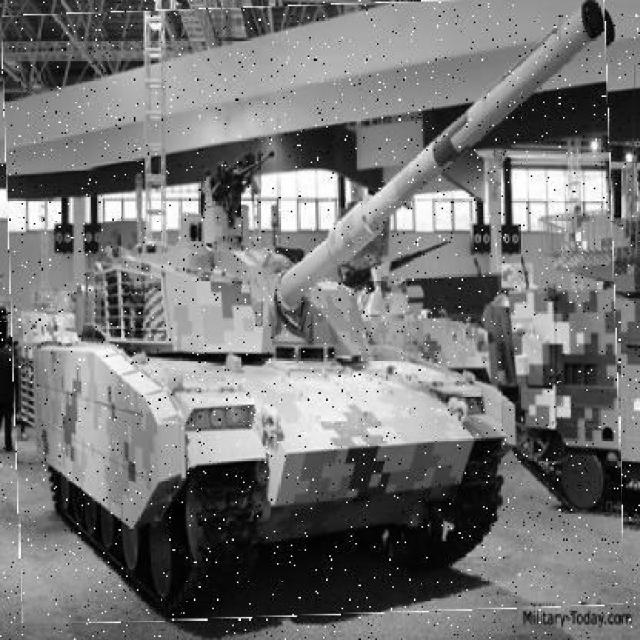Tank: (7, 1, 623, 621)
